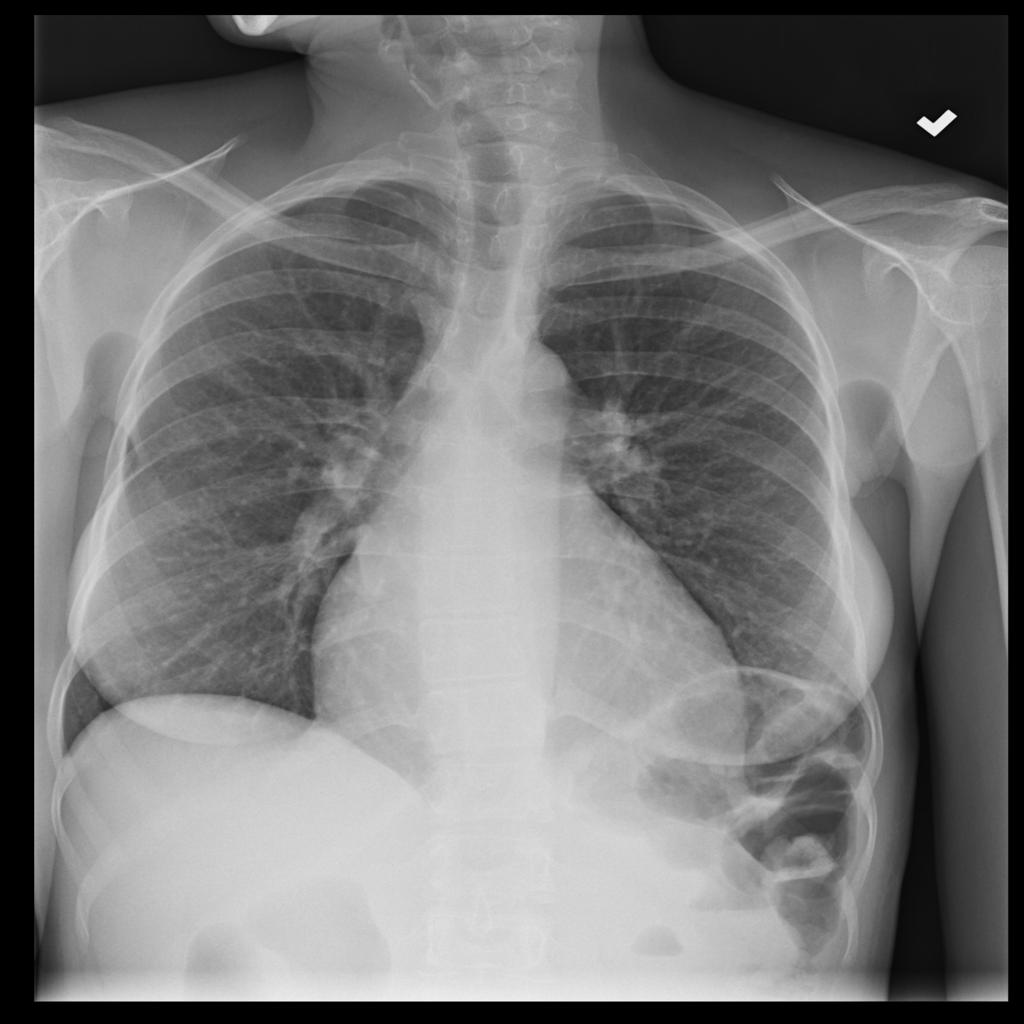Cardiomegaly: (257, 428, 807, 844)
